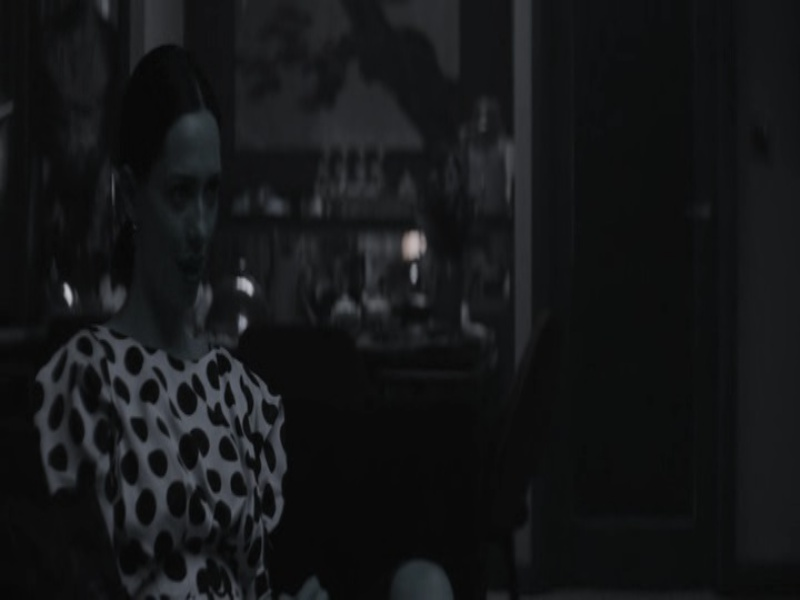TsisyArotava: (114, 108, 245, 327)
